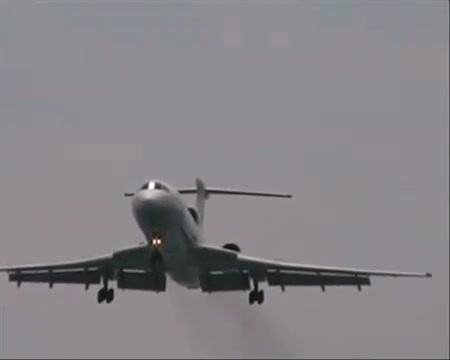aeroplane: (3, 180, 435, 308)
